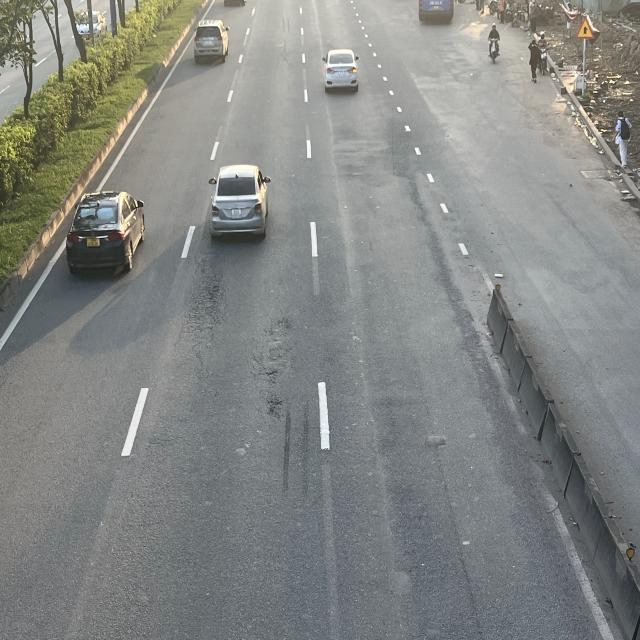car: (64, 190, 144, 278), (207, 167, 270, 240), (323, 50, 362, 93), (194, 16, 229, 59)
